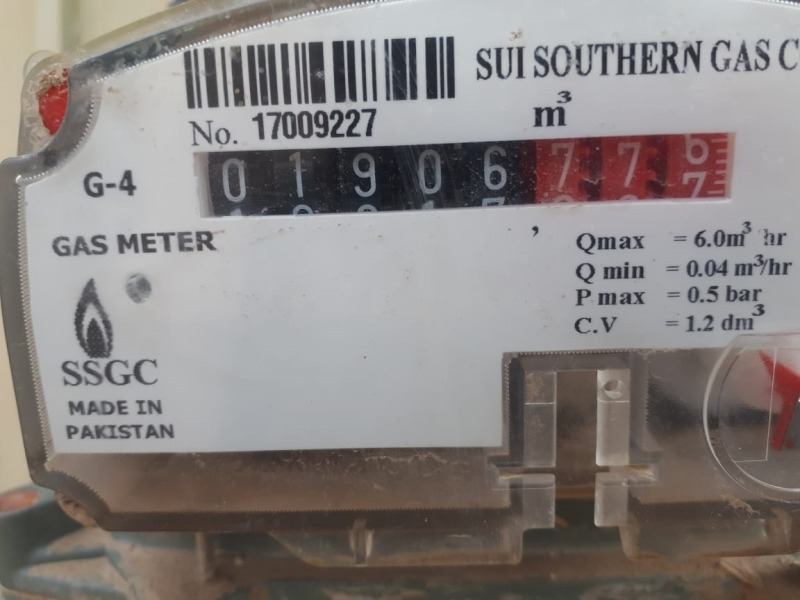ssgc: (187, 132, 731, 208)
